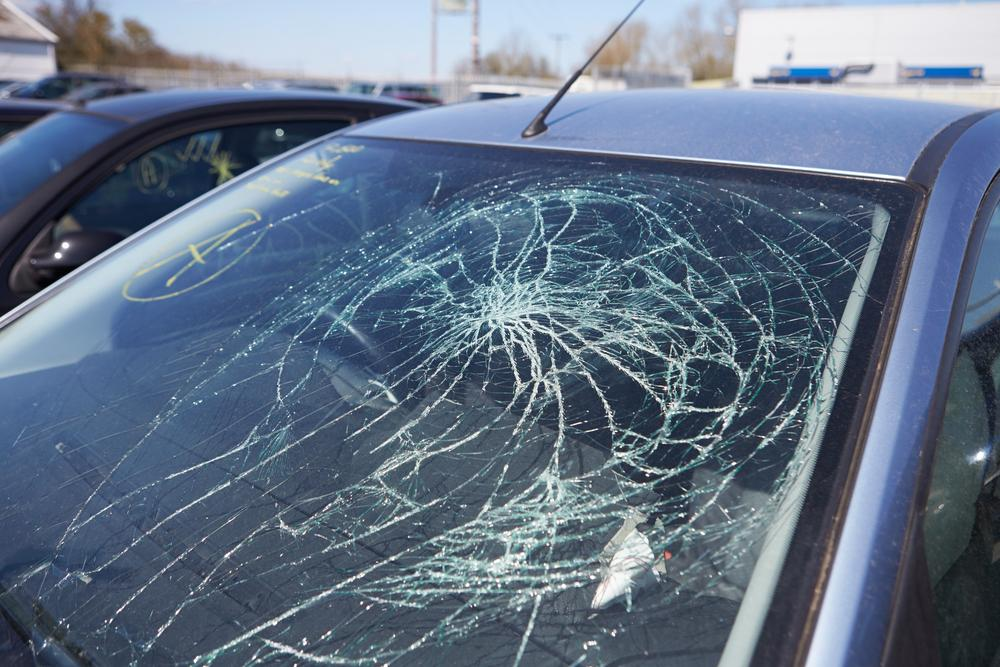glass shatter: (0, 136, 913, 667)
